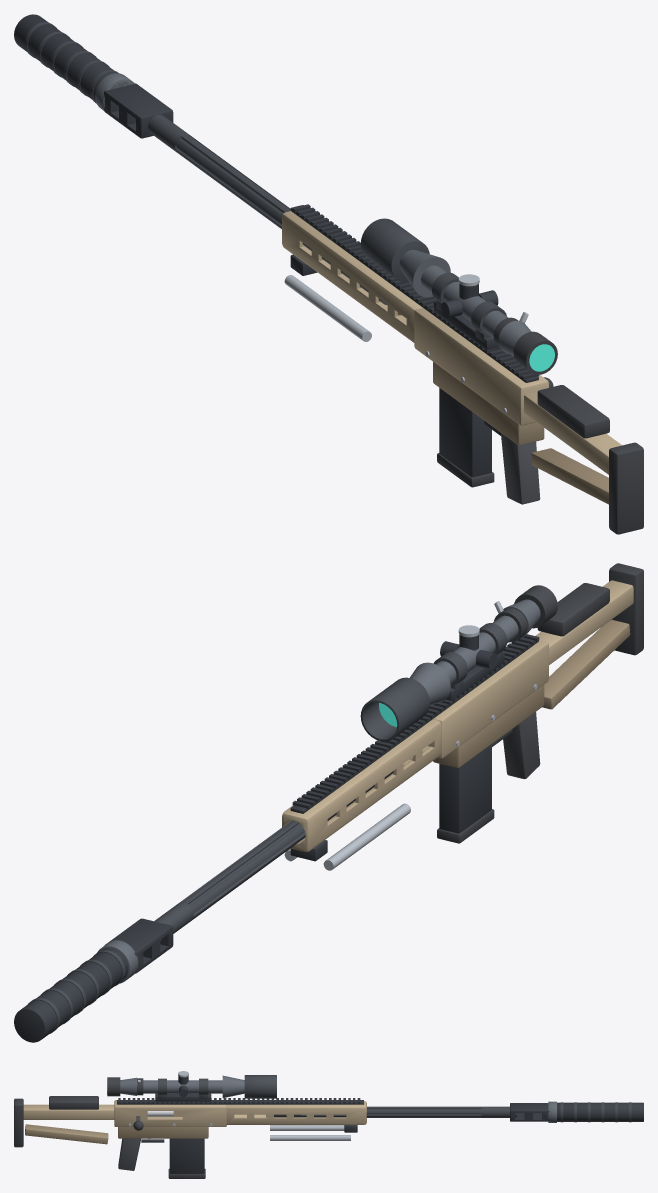
File: sniper_mrad.glb
The picture shows the model from 3 angles, top to bottom: view 1: azimuth 30°, elevation 25°; view 2: azimuth 150°, elevation 25°; view 3: azimuth 270°, elevation 25°; orthographic projection. The views are drawn at different scales.
Visible parts, largest first — view 1: MRAD_Handguard, MRAD_Upper, MRAD_Barrel, MagBody, SupBody, Buttpad, MRAD_Lower, ScopeSunshade, BarrettBrake, CheekRiser, StockTopRail, PistolGrip (+5 smaller); view 2: MRAD_Handguard, MRAD_Upper, SupBody, MRAD_Barrel, MagBody, StockStrut, ScopeSunshade, MRAD_Lower, StockTopRail, CheekRiser, Buttpad, PistolGrip (+6 smaller); view 3: MRAD_Handguard, MRAD_Upper, MRAD_Barrel, SupBody, MagBody, StockTopRail, MRAD_Lower, StockStrut, TopRail_Base, ScopeSunshade, ScopeTube, BarrettBrake (+11 smaller).
Part boxes in pixels (bbox=[...]): MRAD_Handguard: bbox=[282, 211, 422, 342]; MRAD_Upper: bbox=[414, 308, 548, 425]; MRAD_Barrel: bbox=[148, 114, 387, 305]; MagBody: bbox=[439, 388, 491, 477]; SupBody: bbox=[14, 14, 128, 100]; Buttpad: bbox=[609, 442, 643, 534]; MRAD_Lower: bbox=[433, 362, 544, 445]; ScopeSunshade: bbox=[360, 218, 429, 282]; BarrettBrake: bbox=[104, 83, 173, 138]; CheekRiser: bbox=[537, 385, 609, 438]; StockTopRail: bbox=[524, 391, 621, 474]; PistolGrip: bbox=[501, 433, 540, 504]; MRAD_Handguard: bbox=[282, 719, 441, 851]; MRAD_Upper: bbox=[428, 640, 548, 758]; SupBody: bbox=[14, 948, 128, 1042]; MRAD_Barrel: bbox=[154, 771, 393, 942]; MagBody: bbox=[439, 744, 491, 833]; StockStrut: bbox=[542, 619, 630, 709]; ScopeSunshade: bbox=[360, 677, 429, 741]; MRAD_Lower: bbox=[433, 684, 544, 767]; StockTopRail: bbox=[535, 580, 633, 664]; CheekRiser: bbox=[537, 583, 609, 636]; Buttpad: bbox=[609, 563, 643, 655]; PistolGrip: bbox=[503, 712, 540, 779]; MRAD_Handguard: bbox=[226, 1101, 366, 1124]; MRAD_Upper: bbox=[114, 1100, 226, 1126]; MRAD_Barrel: bbox=[266, 1106, 516, 1117]; SupBody: bbox=[557, 1102, 643, 1121]; MagBody: bbox=[169, 1138, 204, 1173]; StockTopRail: bbox=[23, 1104, 114, 1119]; MRAD_Lower: bbox=[118, 1127, 208, 1138]; StockStrut: bbox=[25, 1124, 108, 1144]; TopRail_Base: bbox=[117, 1100, 363, 1104]; ScopeSunshade: bbox=[244, 1075, 276, 1098]; ScopeTube: bbox=[143, 1080, 222, 1093]; BarrettBrake: bbox=[510, 1103, 549, 1121].
Size of the model in its own units: 0.1058 by 0.308 by 1.71.
